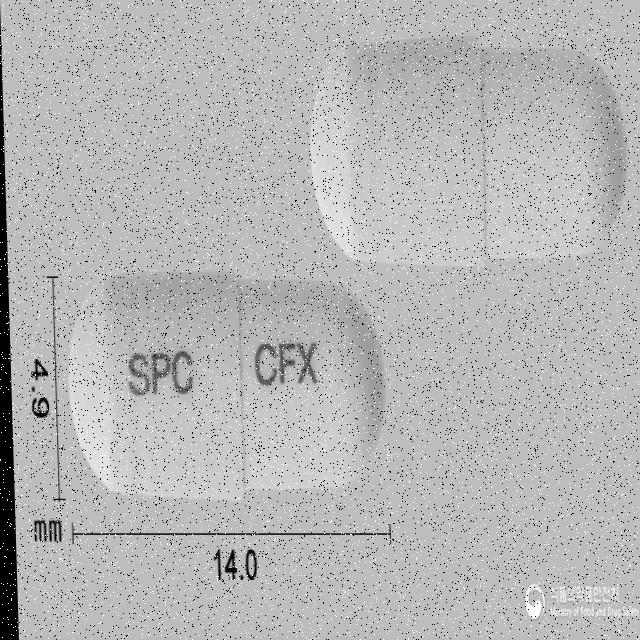Seoul Cefixime Cap: (64, 271, 387, 501)
